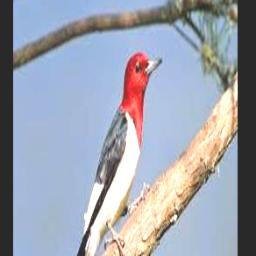Woodpecker: (72, 51, 162, 256)
